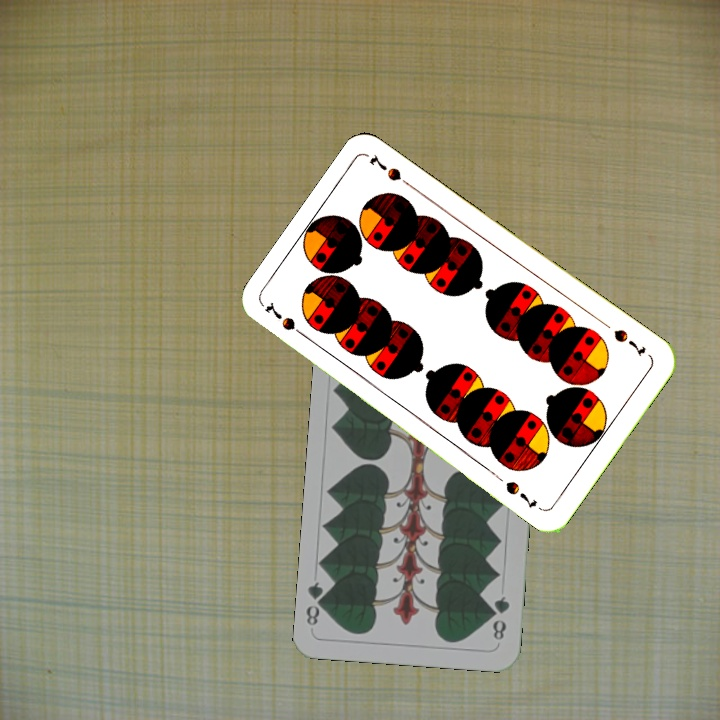G8: (487, 592, 513, 643)
S7: (261, 299, 311, 342), (609, 325, 649, 358)
